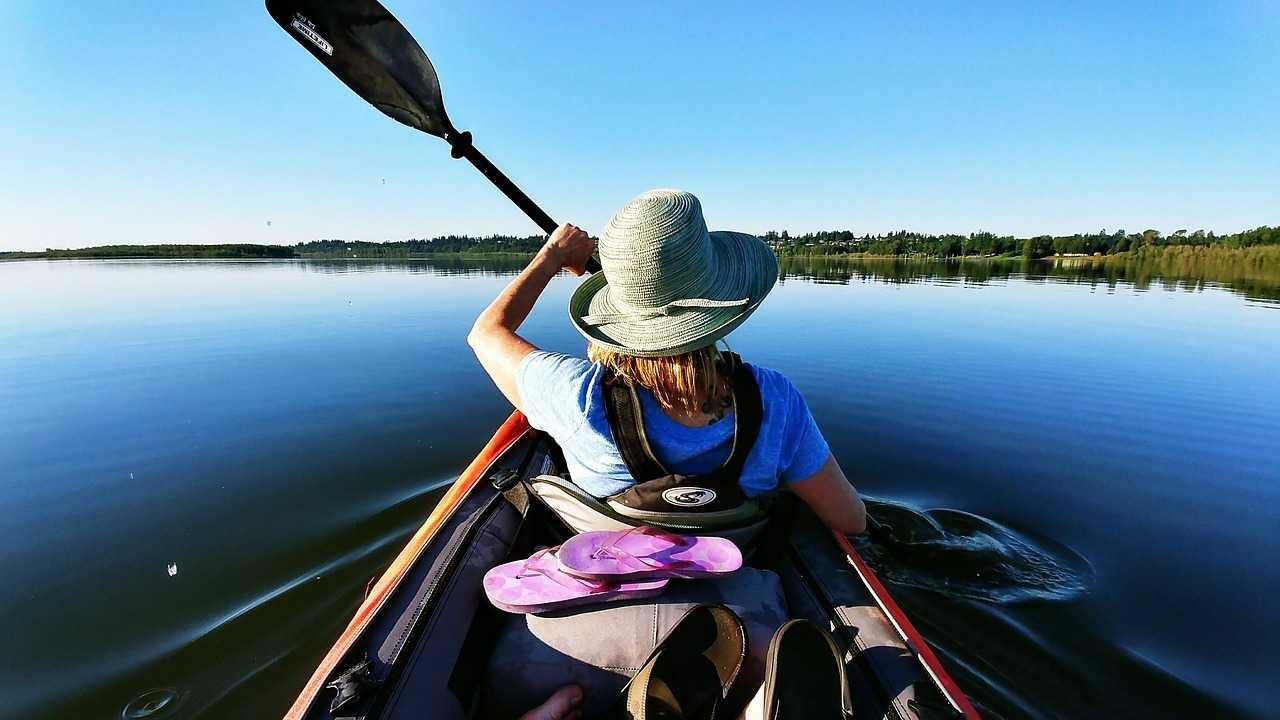kayak: (284, 418, 994, 713)
